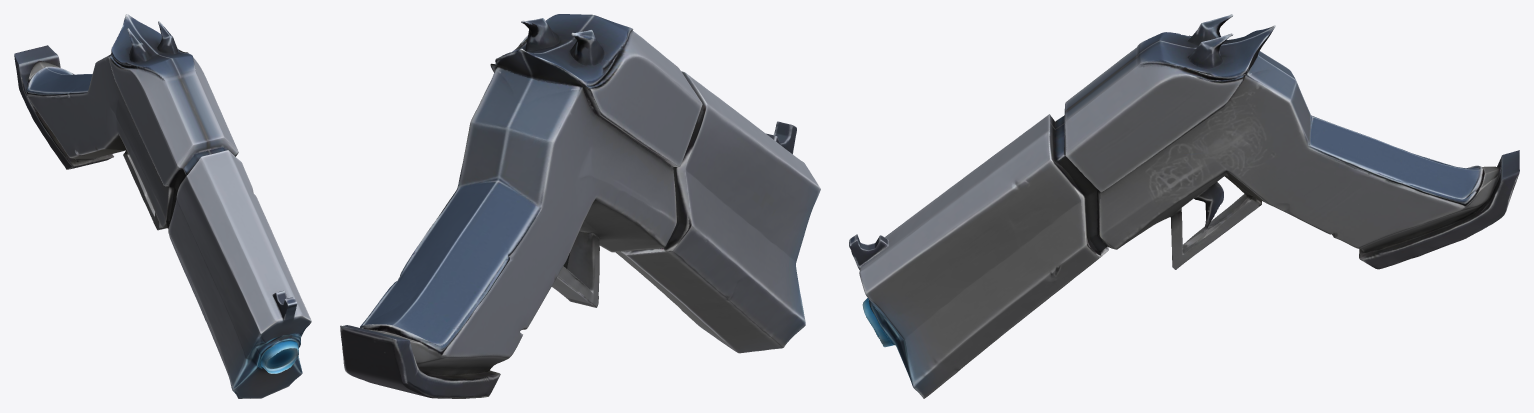
File: futuristic+laser+gun+3d+model.fbx
The picture shows the model from 3 angles, left to right: view 1: azimuth 30°, elevation 25°; view 2: azimuth 150°, elevation 25°; view 3: azimuth 270°, elevation 25°; orthographic projection. The views are drawn at different scales.
Visible parts, largest first — view 1: tripo_node_6e516b02; view 2: tripo_node_6e516b02; view 3: tripo_node_6e516b02.
Boxes of the visible parts, x1,y1,x2,y2 form: tripo_node_6e516b02: (14,14,311,398); tripo_node_6e516b02: (340,14,820,398); tripo_node_6e516b02: (849,14,1519,398).
Size of the model in its own units: 0.1551 by 0.6075 by 1.
1 material, 1 textured.
